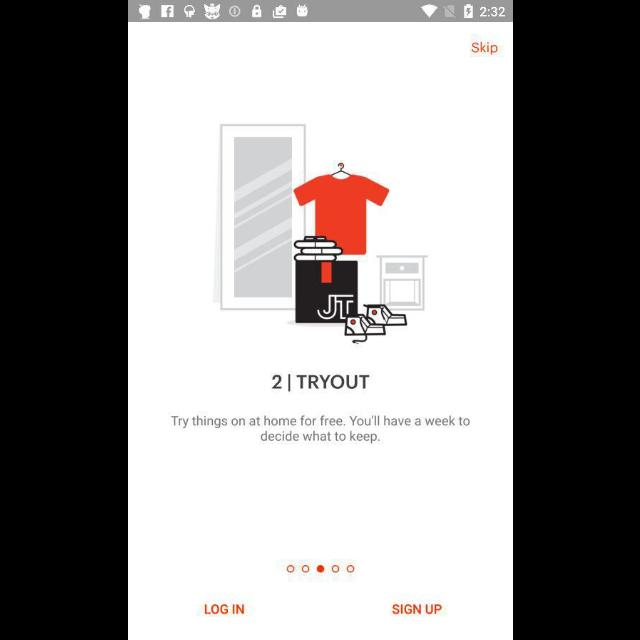image: (211, 124, 427, 346)
pageindicator: (286, 564, 354, 574)
text: (169, 416, 469, 444), (270, 373, 370, 392), (392, 603, 442, 615), (203, 604, 244, 616), (470, 42, 498, 56)
uppertaskbar: (128, 1, 512, 23)
